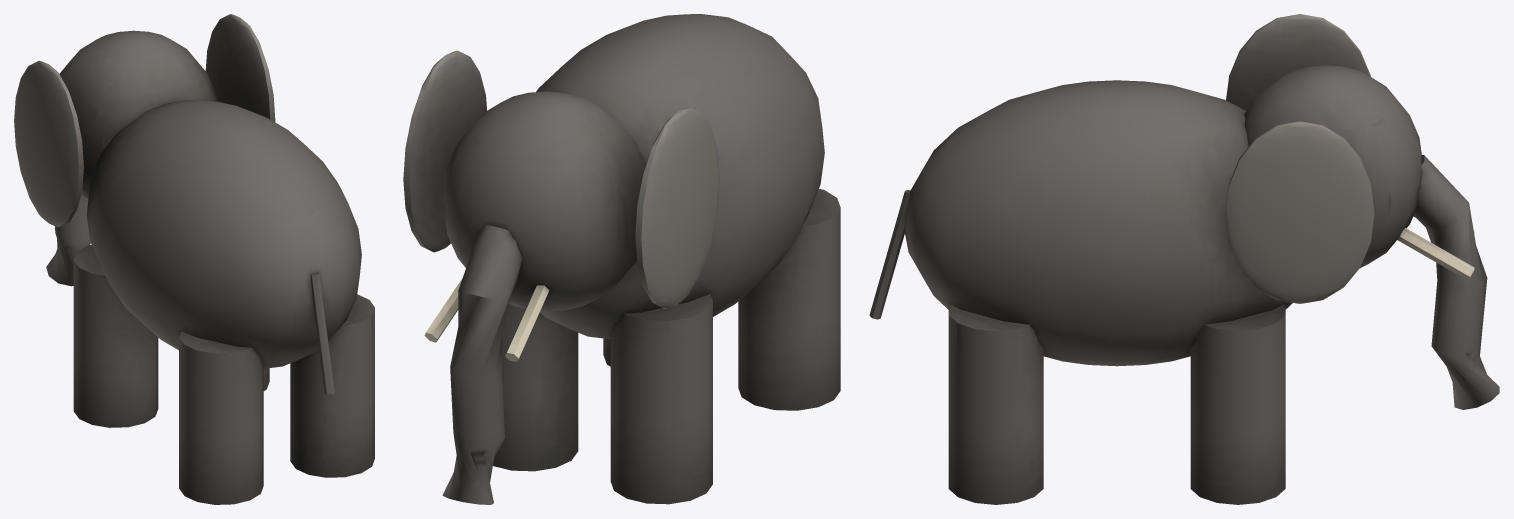
Rendered from zoo_elephant.glb.
3 renders of one model, left to right at view 1: azimuth 30°, elevation 25°; view 2: azimuth 150°, elevation 25°; view 3: azimuth 270°, elevation 25°, orthographic. The views are drawn at different scales.
Visible parts, largest first — view 1: body; view 2: body; view 3: body.
Part boxes in pixels (<box>): body: <box>14,14,374,504</box>; body: <box>403,14,840,504</box>; body: <box>869,14,1499,504</box>.
Size of the model in its own units: 1.92 by 2.88 by 4.27.
Materials: 1 (1 with a texture image).
